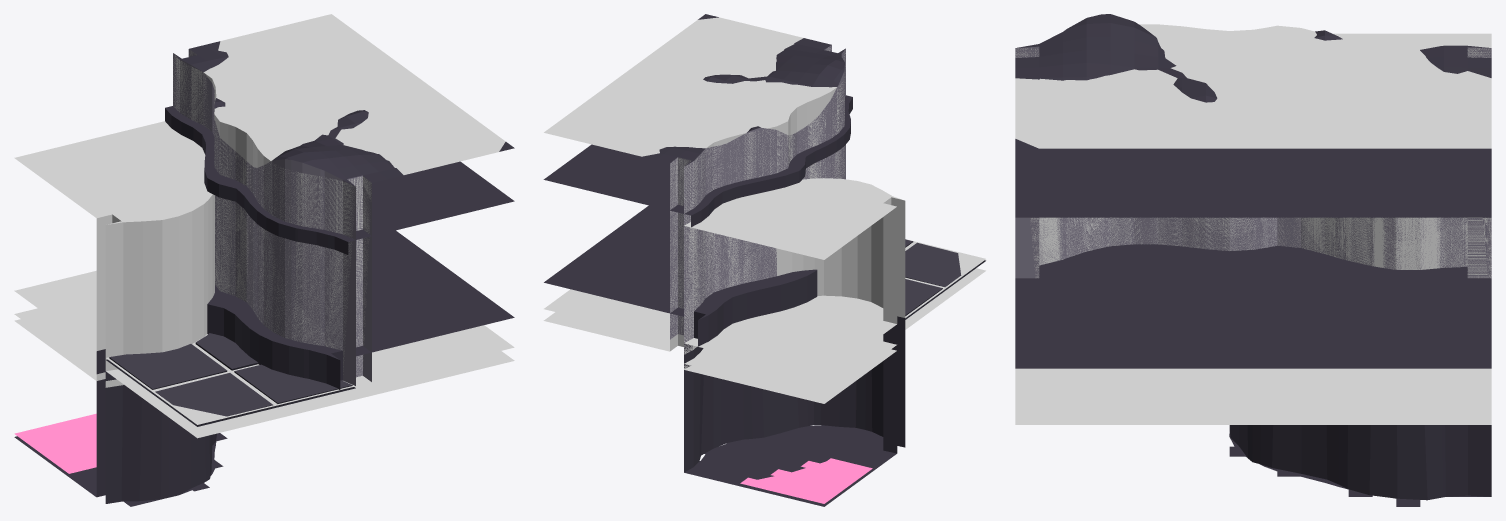
File: Tile_LWWF.fbx
The picture shows the model from 3 angles, left to right: view 1: azimuth 30°, elevation 25°; view 2: azimuth 150°, elevation 25°; view 3: azimuth 270°, elevation 25°; orthographic projection. The views are drawn at different scales.
Parts seen in each view (by area): view 1: Tile_LWWF, Tile_LWWF_ColWall, Tile_LWWF_ColCrackBlocker, Tile_LWWF_ColGround, Tile_LWWF_ColCrackSurface; view 2: Tile_LWWF, Tile_LWWF_ColWall, Tile_LWWF_ColCrackBlocker, Tile_LWWF_ColGround, Tile_LWWF_ColCrackSurface; view 3: Tile_LWWF, Tile_LWWF_ColWall, Tile_LWWF_ColGround, Tile_LWWF_ColCrackBlocker.
Part boxes in pixels (x1=…): Tile_LWWF: x1=14, y1=41, x2=514, y2=506; Tile_LWWF_ColWall: x1=173, y1=14, x2=512, y2=381; Tile_LWWF_ColCrackBlocker: x1=14, y1=121, x2=214, y2=357; Tile_LWWF_ColGround: x1=105, y1=325, x2=514, y2=438; Tile_LWWF_ColCrackSurface: x1=14, y1=308, x2=123, y2=387; Tile_LWWF: x1=543, y1=14, x2=985, y2=506; Tile_LWWF_ColWall: x1=544, y1=17, x2=845, y2=341; Tile_LWWF_ColCrackBlocker: x1=684, y1=178, x2=905, y2=377; Tile_LWWF_ColGround: x1=543, y1=239, x2=985, y2=354; Tile_LWWF_ColCrackSurface: x1=684, y1=335, x2=896, y2=403; Tile_LWWF: x1=1015, y1=14, x2=1491, y2=506; Tile_LWWF_ColWall: x1=1015, y1=24, x2=1491, y2=407; Tile_LWWF_ColGround: x1=1015, y1=368, x2=1491, y2=424; Tile_LWWF_ColCrackBlocker: x1=1301, y1=33, x2=1491, y2=269.
Bounding box in the file's own units: 5 × 5.37 × 5.
